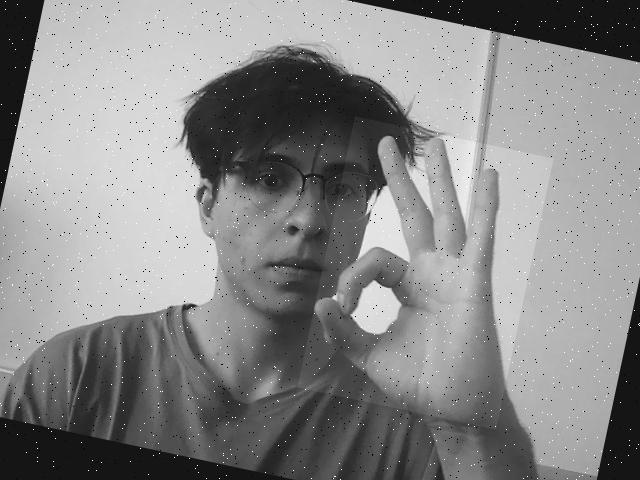OK: (314, 130, 505, 409)
